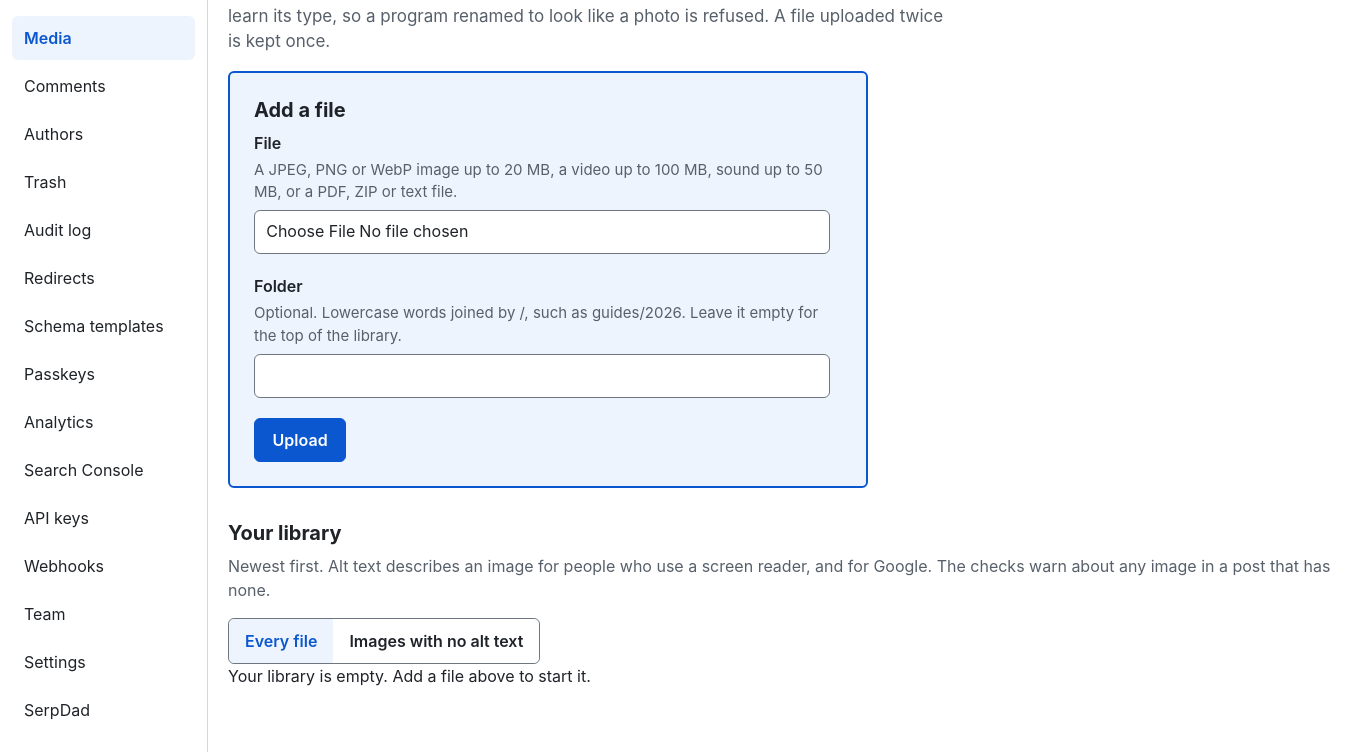
the Media screen › shows only images with no alt text at a press, and says when there are none
This screenshot has width=1366, height=752.
(page scrolled)
expect the text "Your library is empty. Add a file above to start it." is shown: met, box [228, 666, 591, 686]
Click the button "Images with no alt text" at (436, 641), box [333, 619, 539, 663]
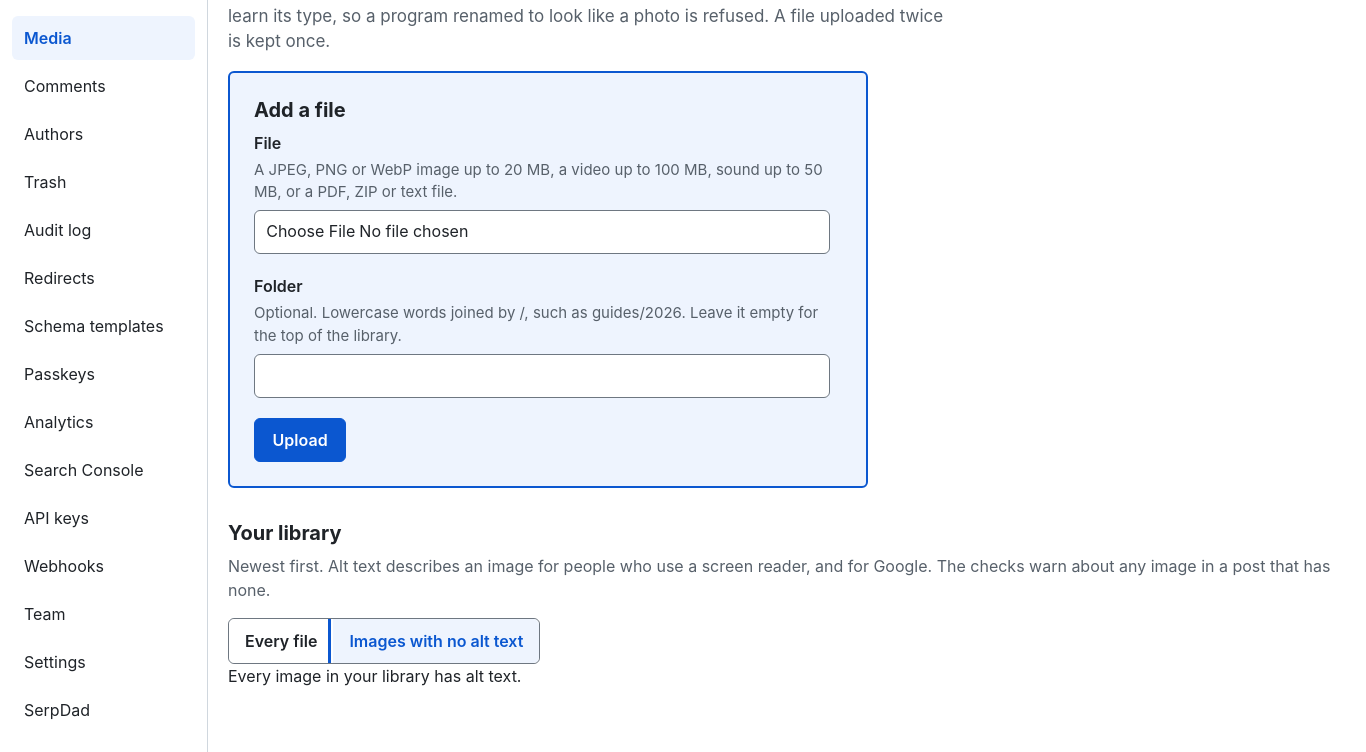
expect the text "Every image in your library has alt text." is shown: met, box [228, 666, 522, 686]
